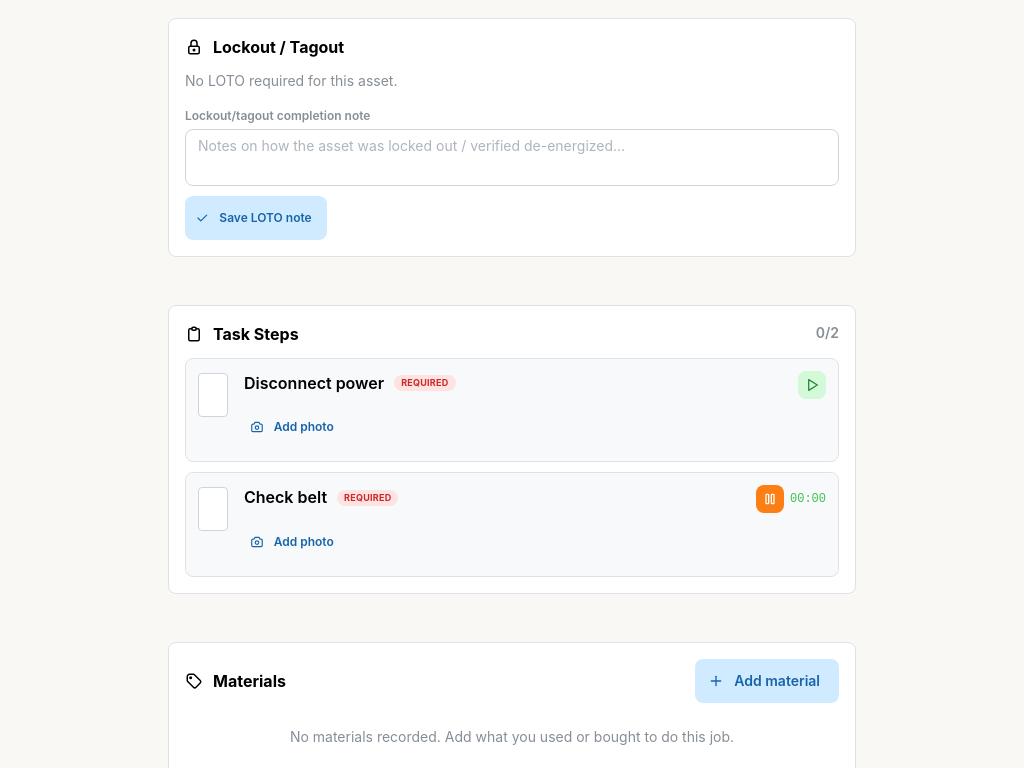
Test case: WorkOrderPage — per-step timer (op-m3so) › starts a step and reloads so a paused sibling is reflected
(page scrolled)
Click the button named "Start timer for Disconnect power" at (812, 385), box [798, 371, 826, 399]
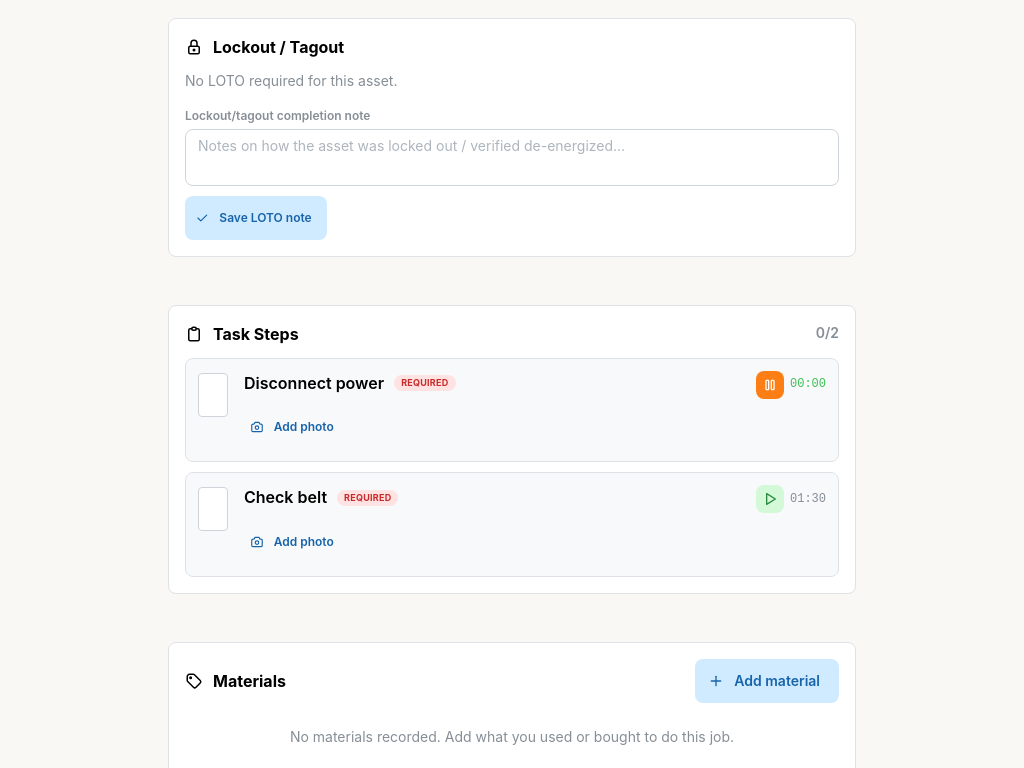
Result: the button named "Pause timer for Disconnect power" is shown at [756, 371, 784, 399]
Result: the button named "Start timer for Check belt" is shown at [756, 485, 784, 513]
Result: the text "01:30" is shown at [790, 491, 826, 508]
